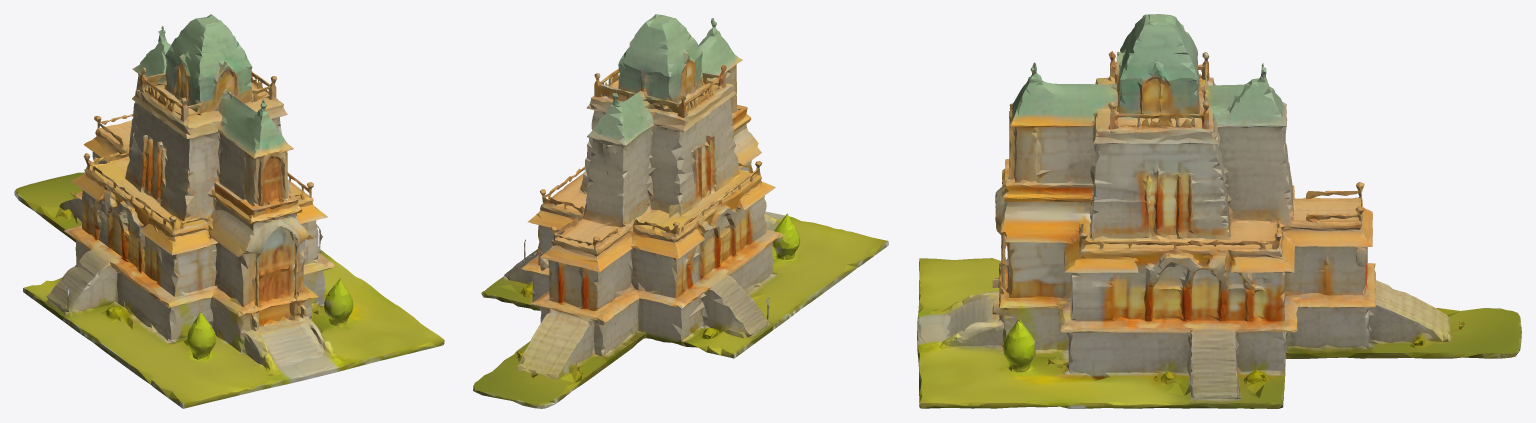
Rendered from human_library.glb.
The picture shows the model from 3 angles, left to right: view 1: azimuth 30°, elevation 25°; view 2: azimuth 150°, elevation 25°; view 3: azimuth 270°, elevation 25°; orthographic projection. The views are drawn at different scales.
Parts seen in each view (by area): view 1: human_library; view 2: human_library; view 3: human_library.
Boxes of the visible parts, <box> form: human_library: <box>14,14,444,408</box>; human_library: <box>473,14,888,408</box>; human_library: <box>917,14,1521,408</box>.
Size of the model in its own units: 1.08 by 1.1 by 1.89.
1 material, 1 textured.
